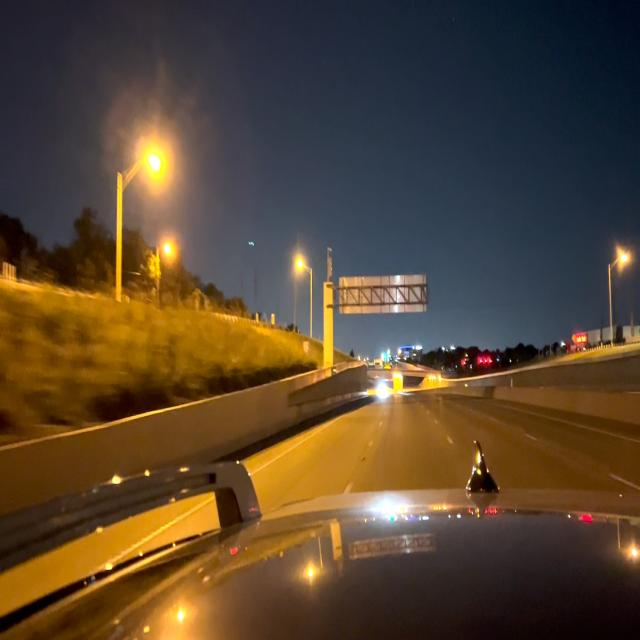back-of-sign: (339, 278, 426, 311)
